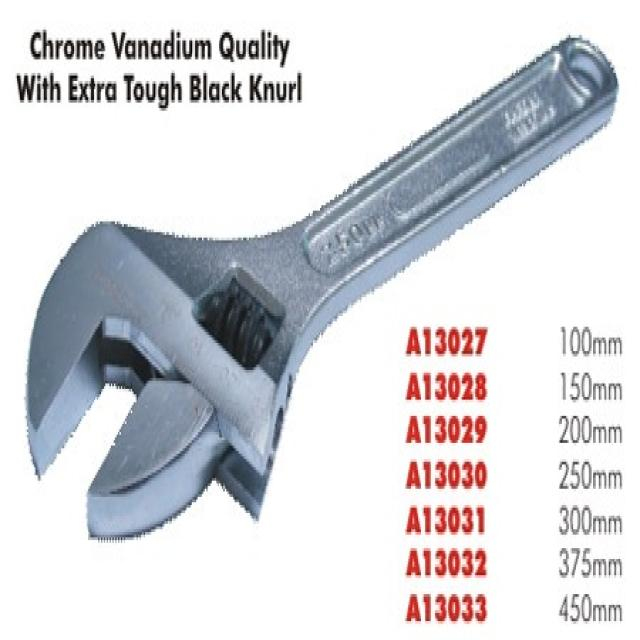wrench: (9, 92, 369, 616)
